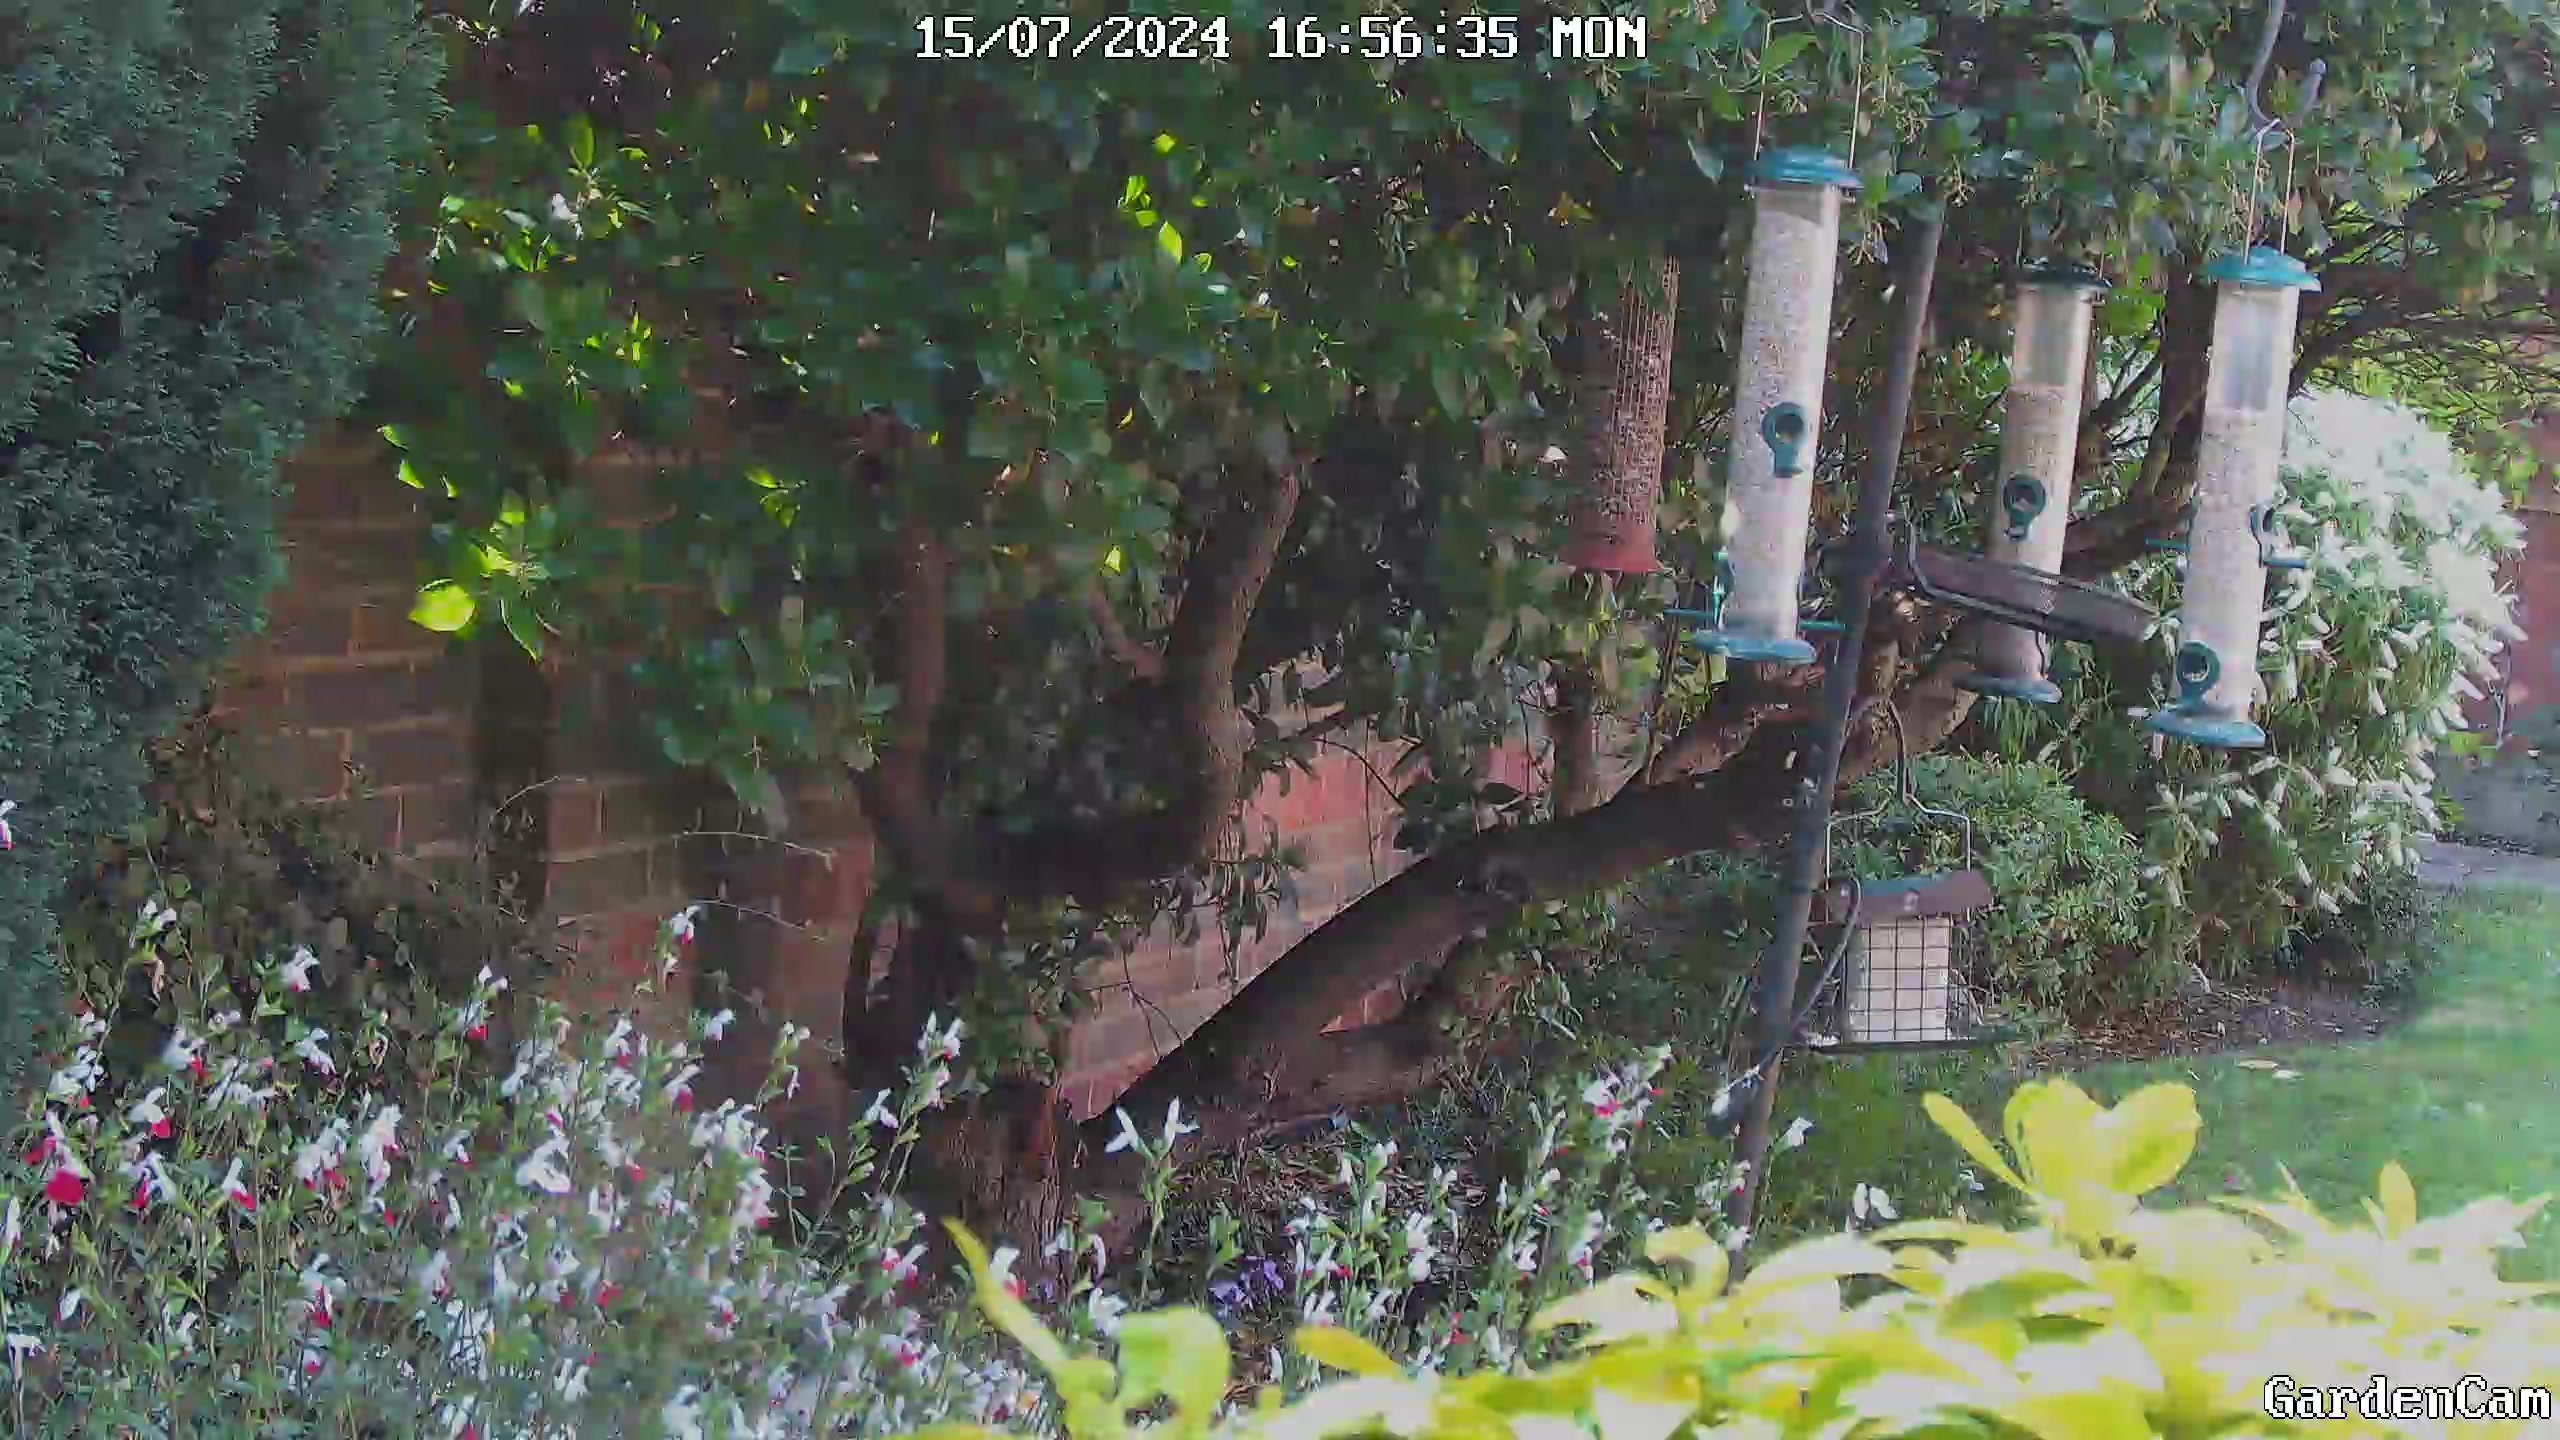House_Sparrow: (1948, 964, 2001, 1041)
